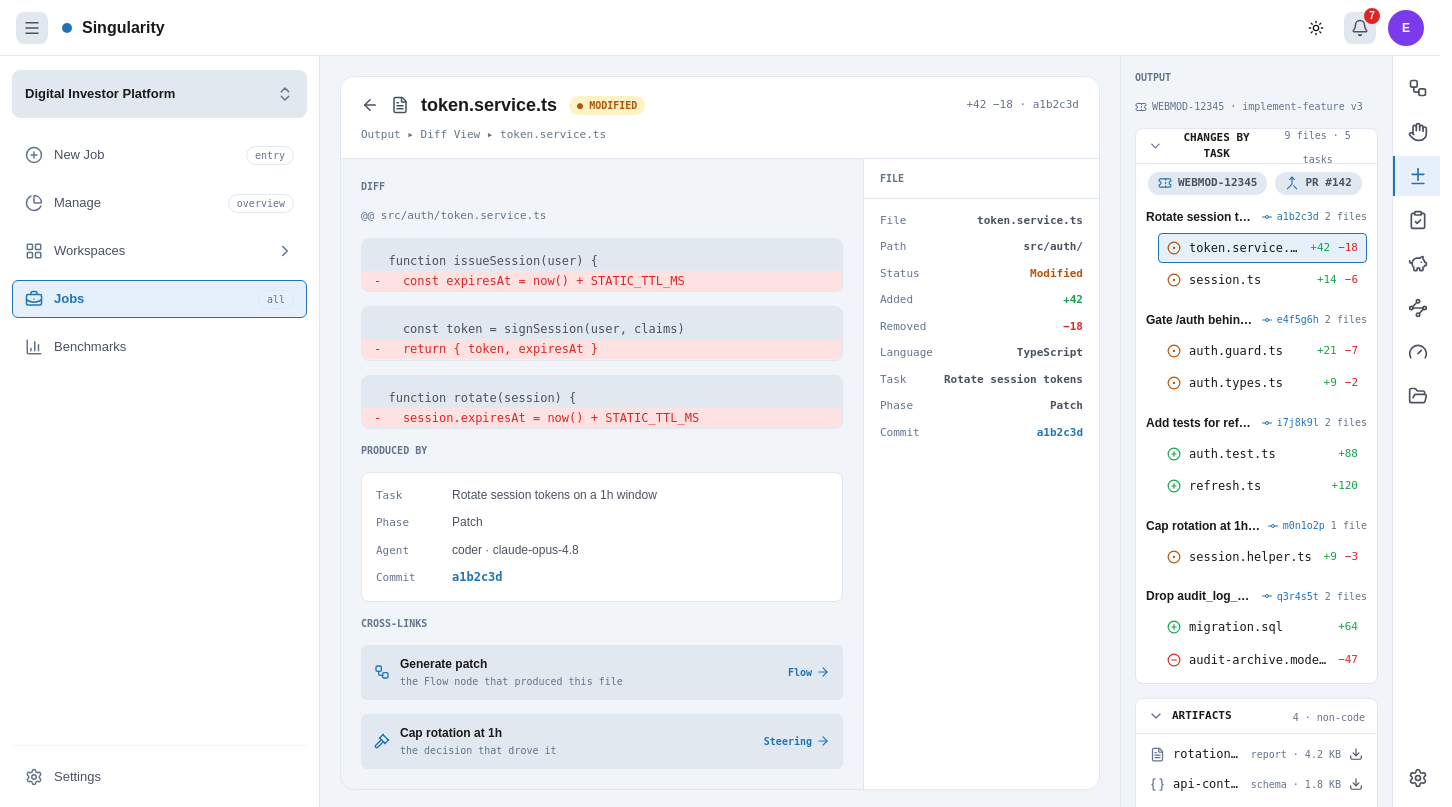
Scenario: Output section › selecting another file swaps to its minimal diff
Expected: the heading "token.service.ts" is shown, [421,91,557,119]
Click the button "session.ts +14 −6" at (1262, 280), box [1158,265,1367,296]
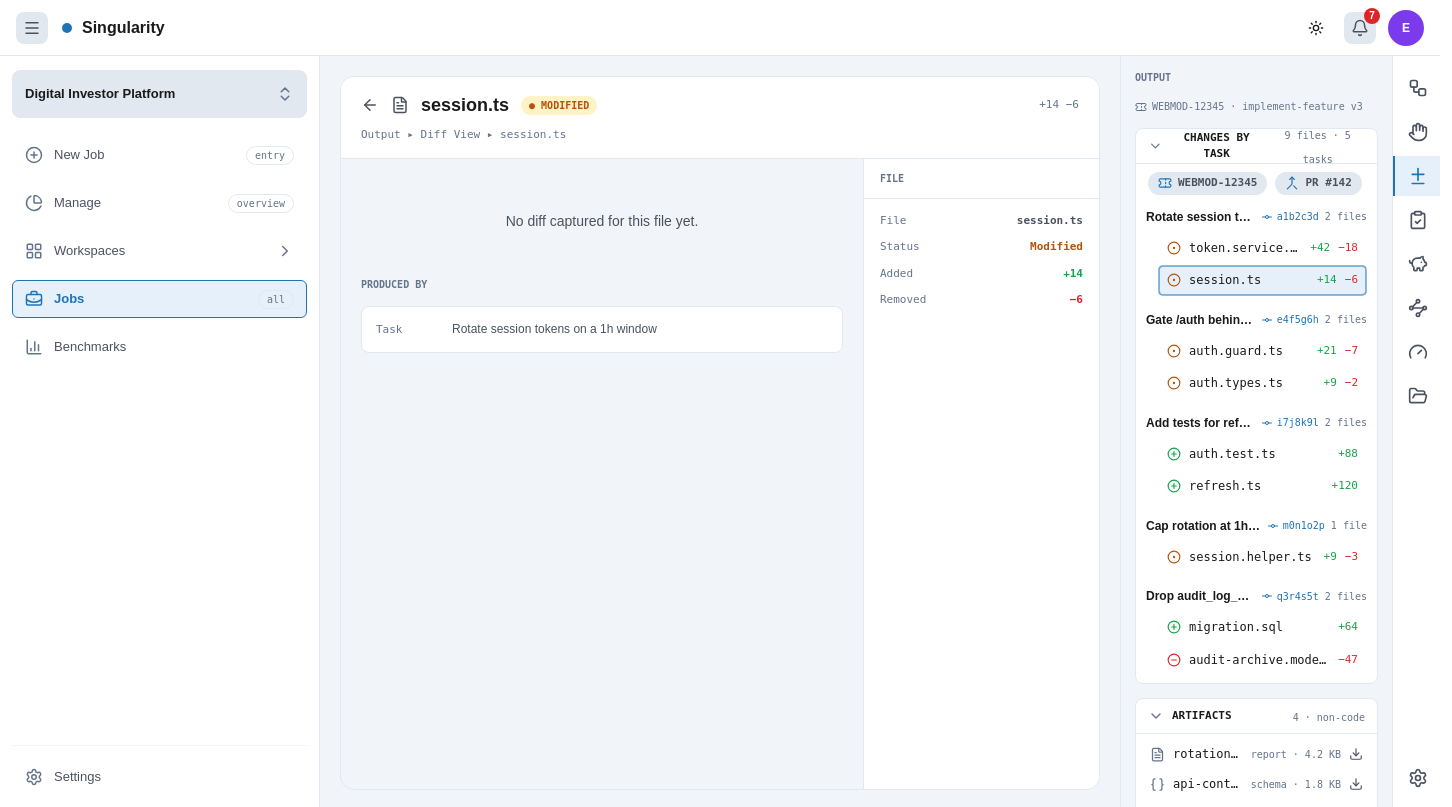
Expected: the heading "session.ts" is shown, [421,91,509,119]
Expected: the text "No diff captured for this file yet." is shown, [506,212,698,228]
